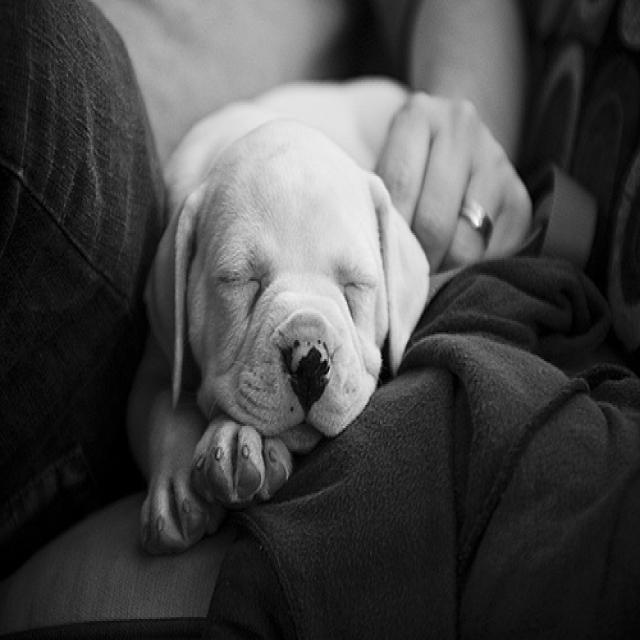dog-american_bulldog: (115, 61, 436, 558)
